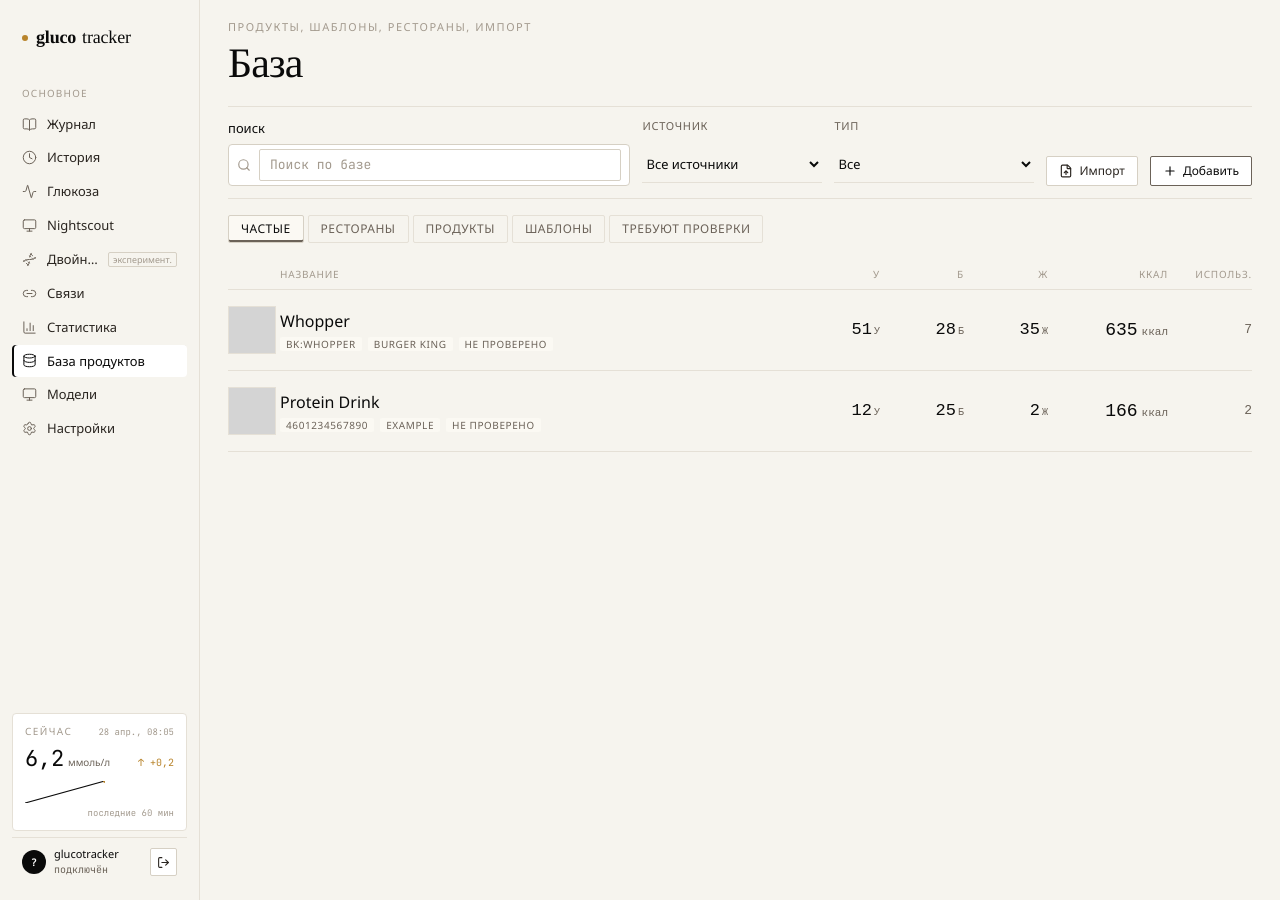
Test: database import button opens import panel
Click the button "Импорт". click: (1092,171)
box: x1=1046 y1=156 x2=1138 y2=186
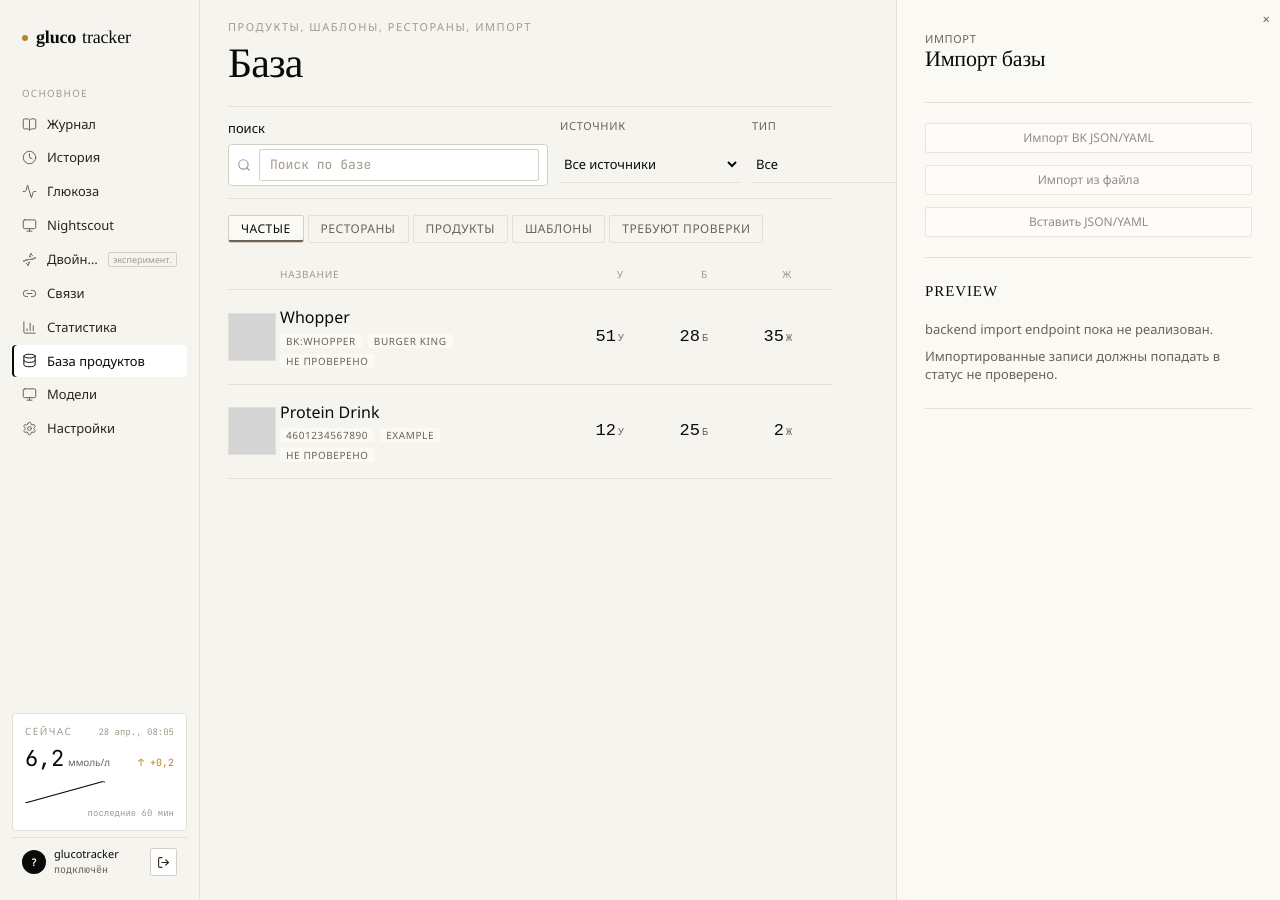
Now the heading "Импорт базы" is shown, box x1=925 y1=46 x2=1045 y2=71
Now the text "backend import endpoint пока не реализован." is shown, box x1=925 y1=320 x2=1252 y2=338
